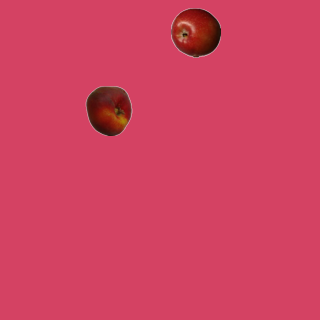Apple Braeburn: (170, 7, 220, 57)
Nectarine Flat: (83, 85, 133, 135)
